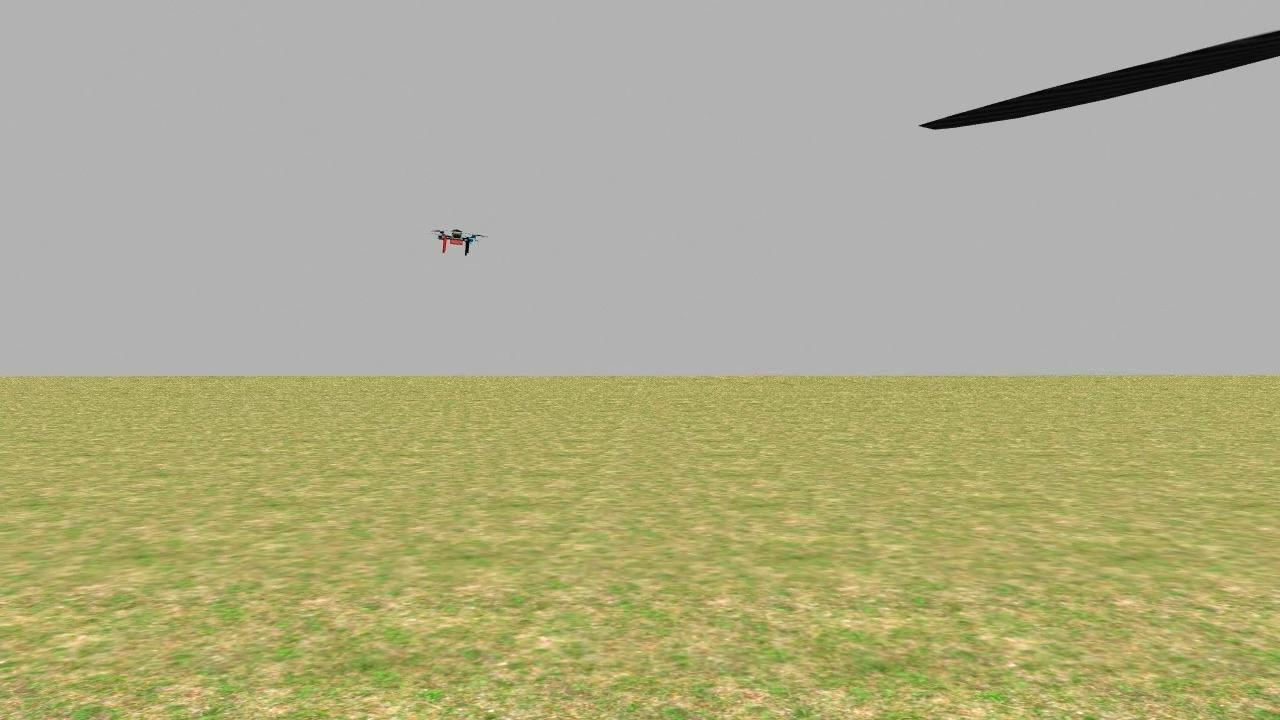UAV: (418, 216, 493, 266)
